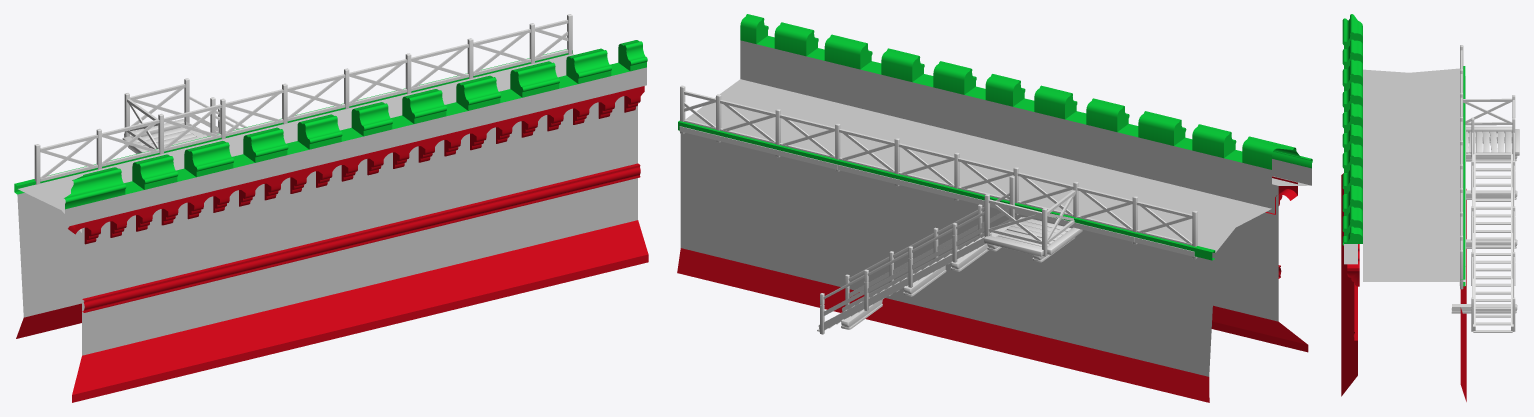
Rendered from Wall_4.fbx.
3 views of the same model, side by side, from view 1: azimuth 30°, elevation 25°; view 2: azimuth 150°, elevation 25°; view 3: azimuth 270°, elevation 25° (orthographic). The views are drawn at different scales.
Visible parts, largest first — view 1: Group_4.015, Group_3.009, Group_3.005, Group_3.010; view 2: Group_4.015, Group_3.009, Group_3.005, Group_3.010; view 3: Group_4.015, Group_3.005, Group_3.009.
Boxes of the visible parts, x1,y1,x2,y2 form: Group_4.015: [14, 40, 648, 402]; Group_3.009: [34, 14, 572, 184]; Group_3.005: [122, 78, 247, 153]; Group_3.010: [164, 104, 221, 151]; Group_4.015: [677, 14, 1312, 402]; Group_3.009: [679, 85, 1197, 259]; Group_3.005: [817, 175, 1082, 334]; Group_3.010: [1015, 172, 1075, 227]; Group_4.015: [1341, 14, 1466, 401]; Group_3.005: [1451, 95, 1519, 332]; Group_3.009: [1459, 45, 1465, 289].
Bounding box in the file's own units: 1948 × 690 × 655.
